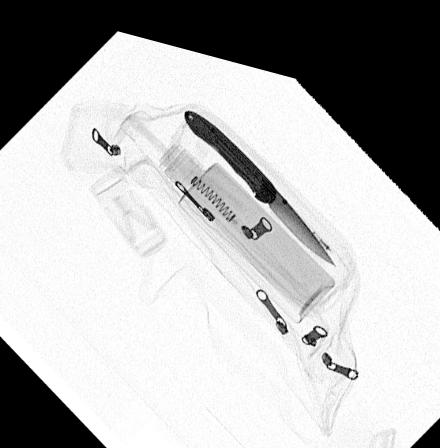Knife: (182, 98, 337, 248)
